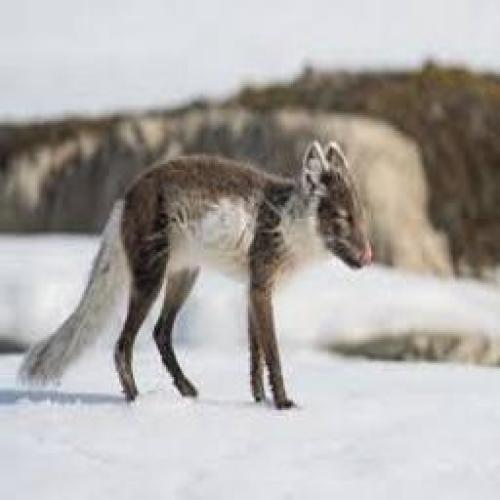arctic_fox-endangered: (24, 139, 373, 414)
